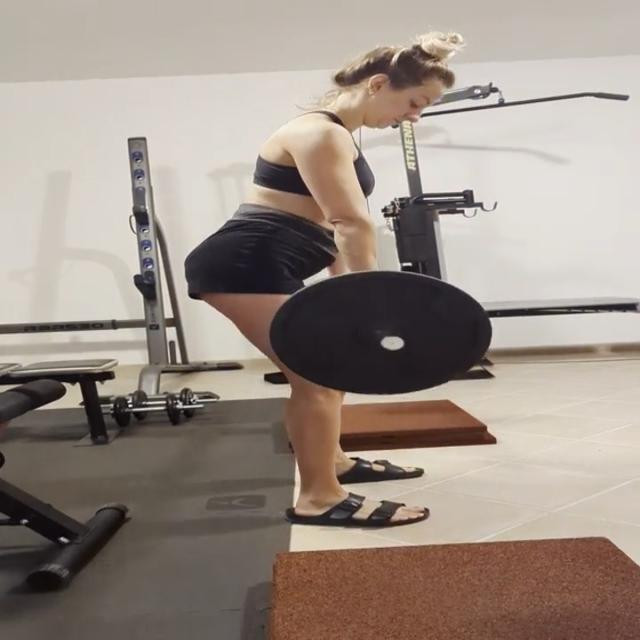barbell: (265, 268, 497, 399)
